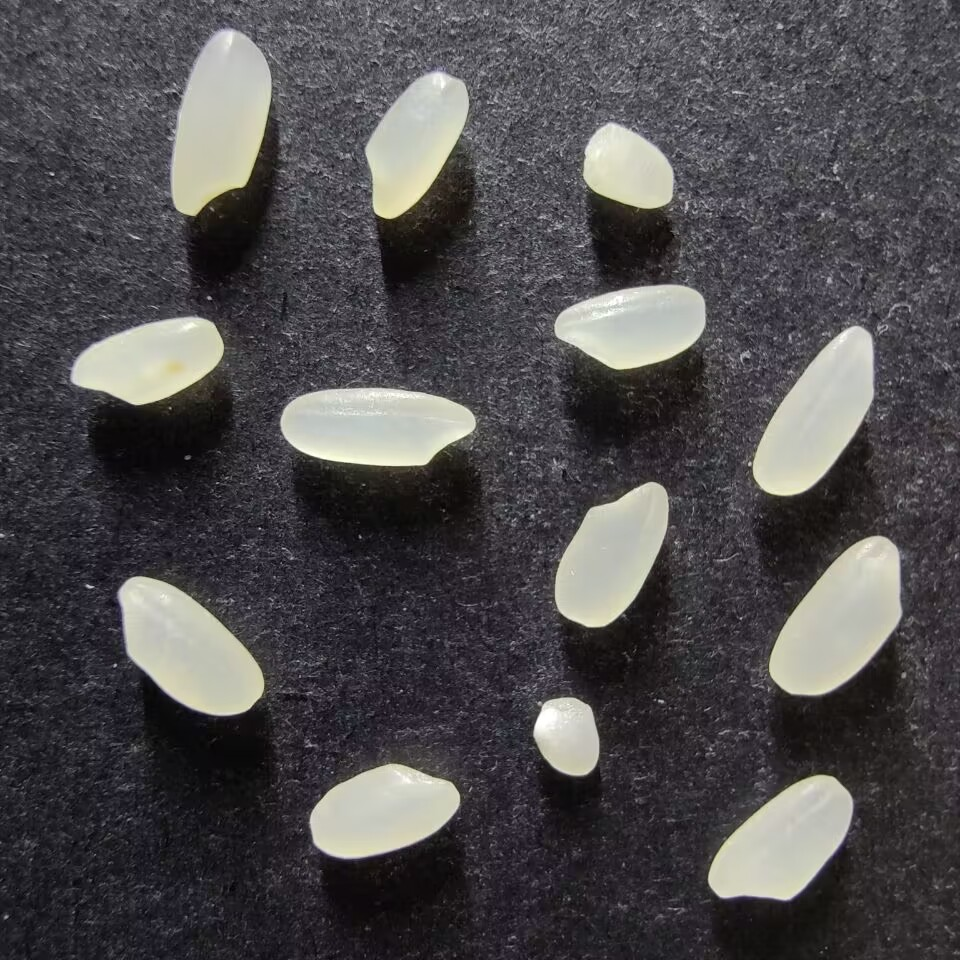broken: (581, 121, 676, 210), (532, 696, 601, 778)
rice: (767, 535, 905, 697), (751, 323, 876, 497), (115, 574, 266, 717), (168, 28, 273, 218), (705, 773, 856, 903), (552, 481, 671, 629), (362, 70, 472, 220), (278, 386, 477, 467), (308, 760, 462, 860), (68, 314, 225, 408), (552, 284, 709, 371)
